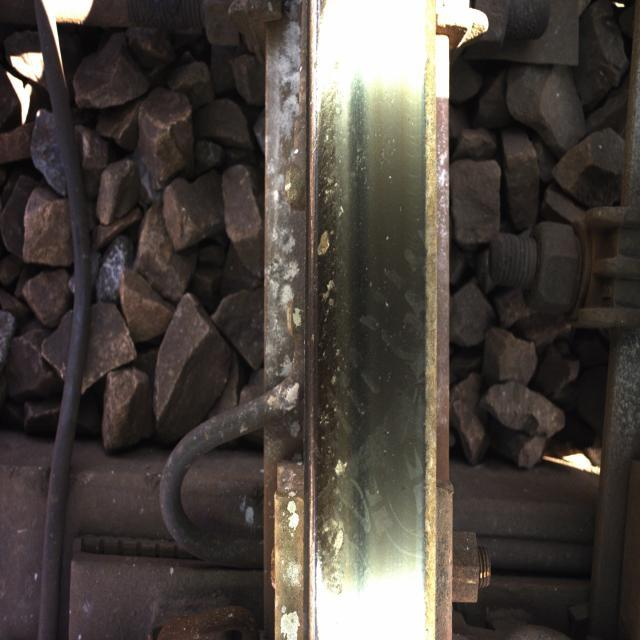scar: (312, 36, 372, 599)
